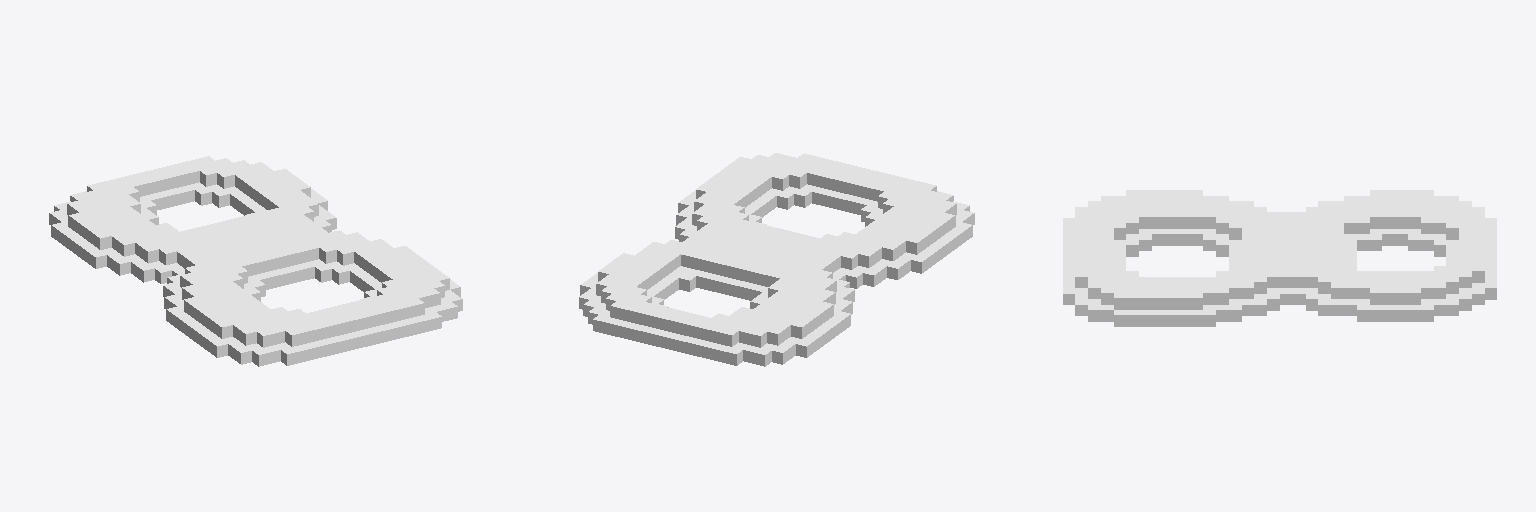
The model's file is eight.obj.
The picture shows the model from 3 angles: view 1: azimuth 30°, elevation 25°; view 2: azimuth 150°, elevation 25°; view 3: azimuth 270°, elevation 25°; orthographic projection.
Visible parts, largest first — view 1: object 1; view 2: object 1; view 3: object 1.
Boxes of the visible parts, x1,y1,x2,y2 form: object 1: [49, 156, 462, 366]; object 1: [579, 153, 974, 366]; object 1: [1063, 190, 1496, 326].
Bounding box in the file's own units: 2.2 × 0.2 × 3.4.